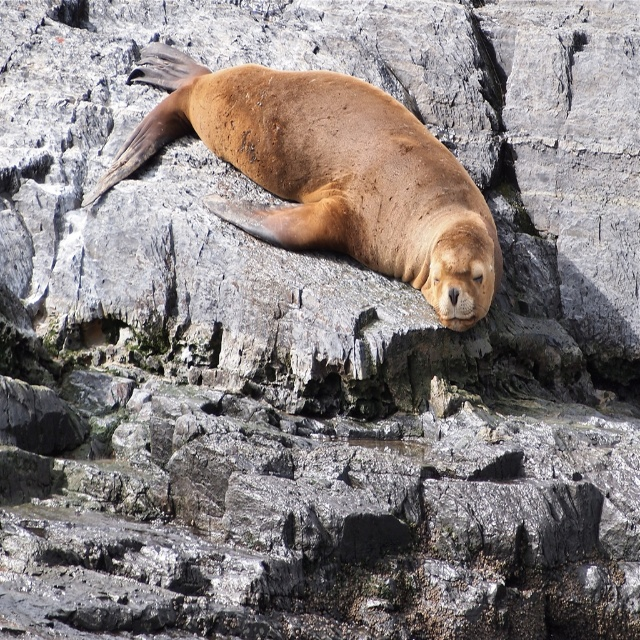Sea lion: (78, 38, 504, 332)
